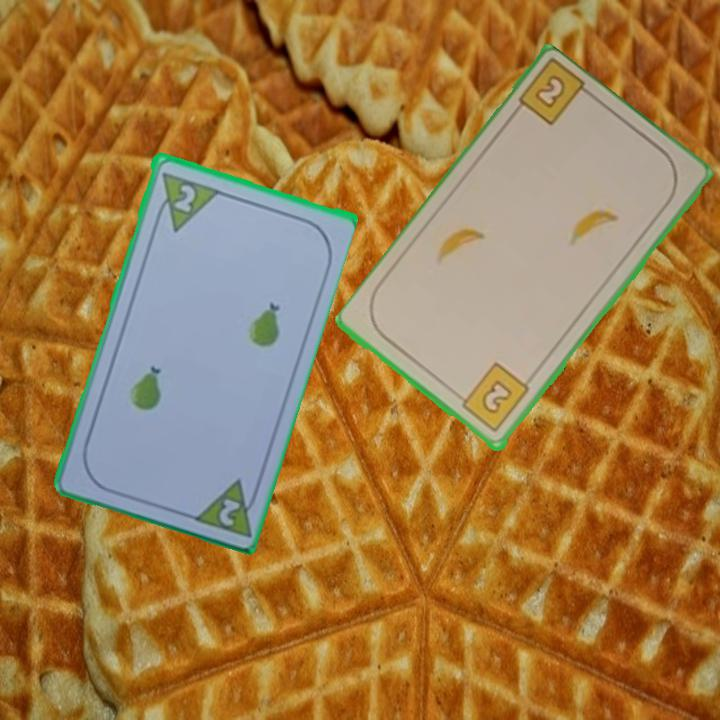2b: (452, 360, 532, 436), (531, 71, 569, 112)
2p: (150, 167, 220, 234), (215, 494, 244, 529)
